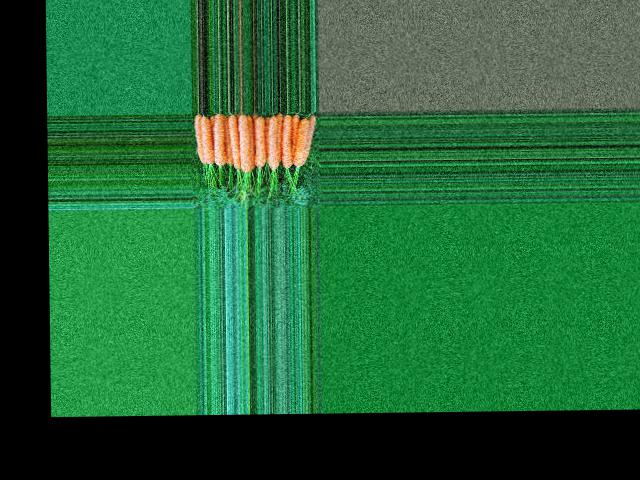carrot: (196, 112, 204, 163)
